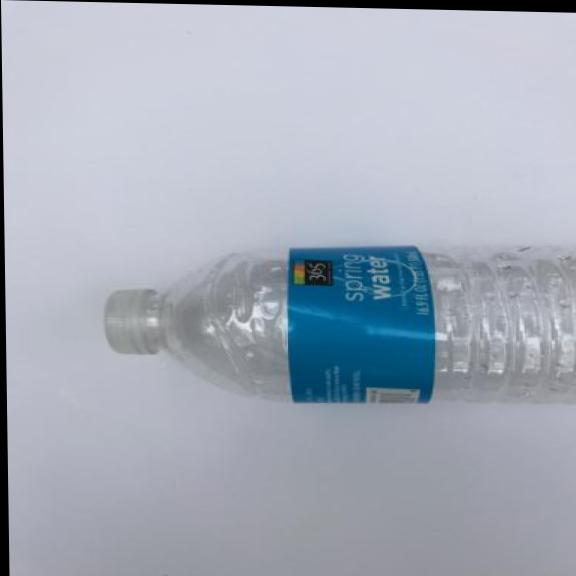Plastik: (93, 226, 576, 414)
